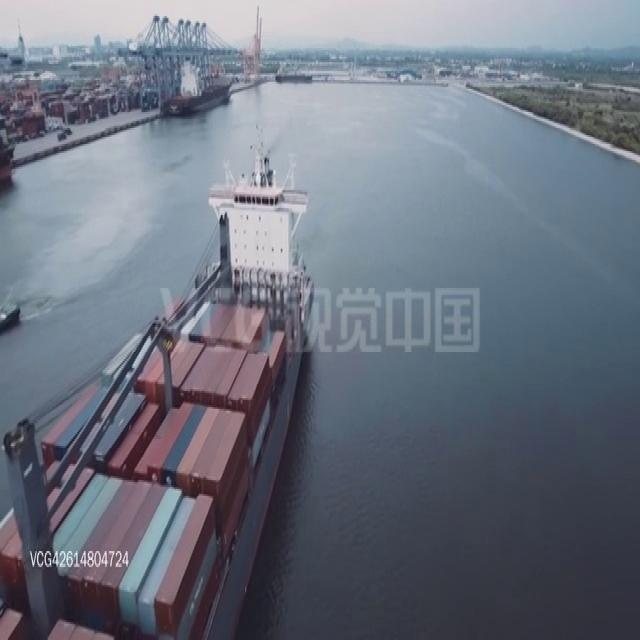cargoship: (0, 145, 299, 640)
